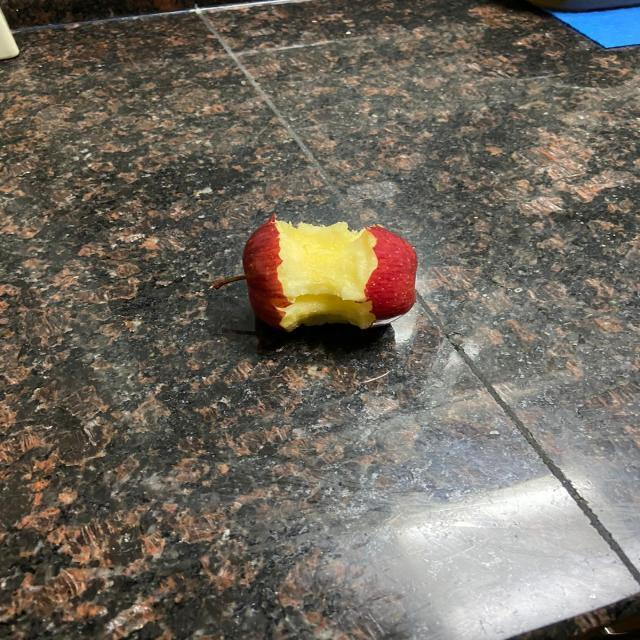apple: (200, 215, 423, 340)
